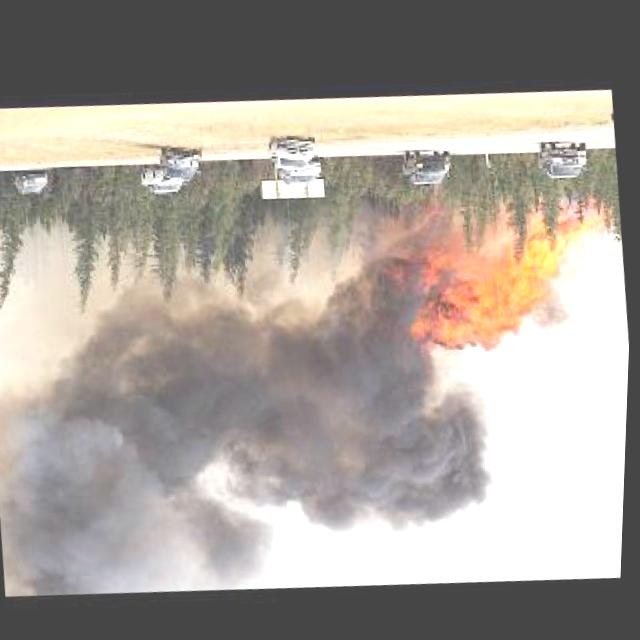Fire: (371, 174, 636, 378)
Smoke: (0, 233, 506, 630)
